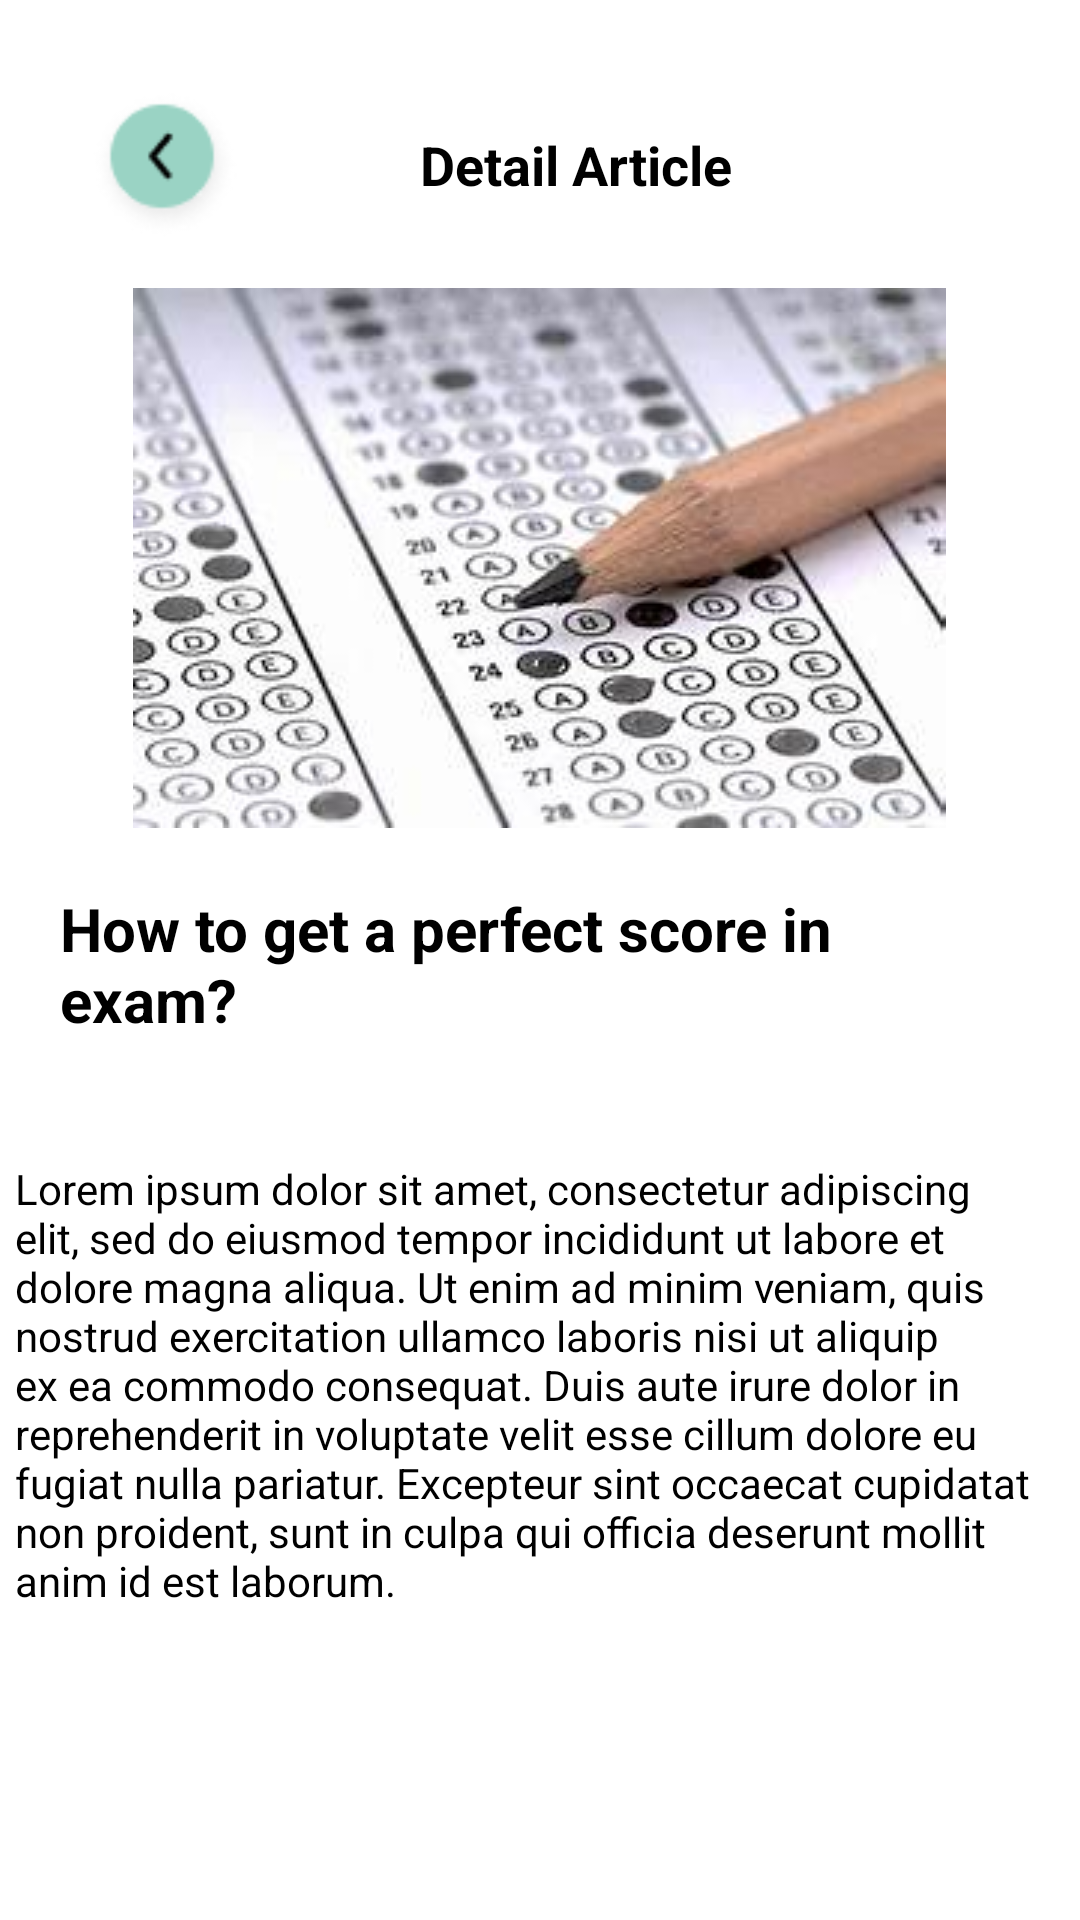

Named icons in this screenshot (1080px x 1920px) and their bounding boxes, (x1, y1, x2, y2):
arrow: (110, 104, 215, 209)
